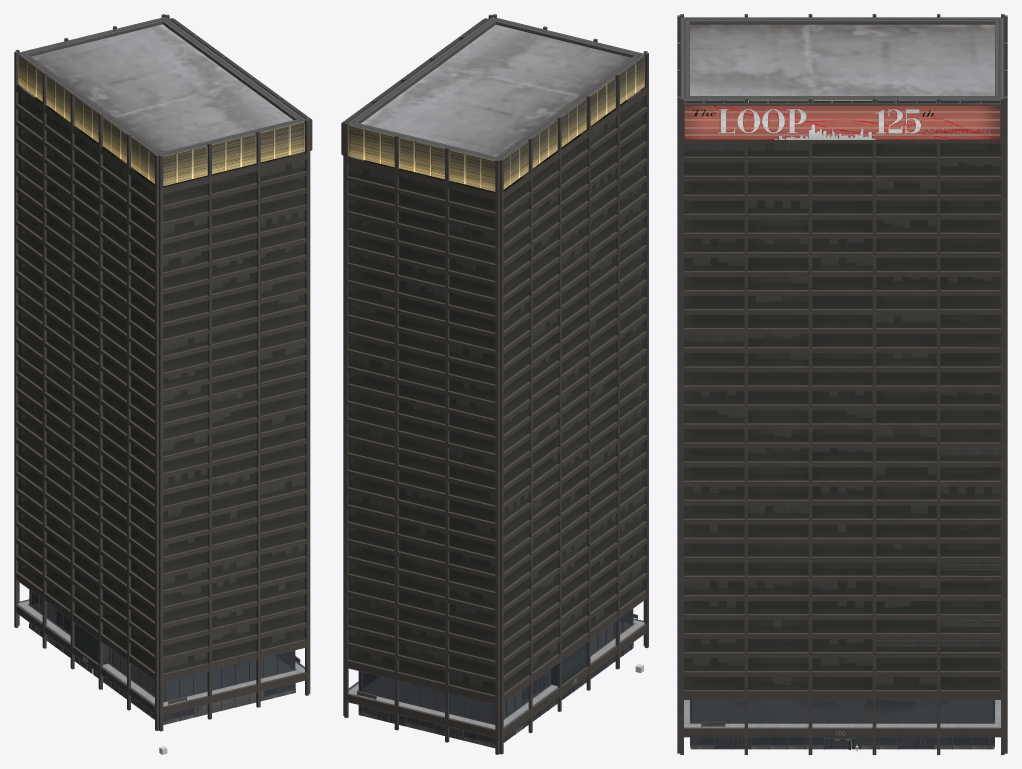
File: hengshi-hq-atlanta-exterior-web.glb
3 renders of one model, left to right at view 1: azimuth 30°, elevation 25°; view 2: azimuth 150°, elevation 25°; view 3: azimuth 270°, elevation 25°, orthographic. The views are drawn at different scales.
Visible parts, largest first — view 1: Cube.002, Cube.005, Cube.012, Cube.001, Cube.006, Cube.007, Cube.003; view 2: Cube.002, Cube.005, Cube.012, Cube.001, Cube.006, Cube.007, Cube.003; view 3: Cube.005, Cube.002, Cube.012, Cube.001, Cube.004, Cube.007, Cube.003, Cube.006.
Boxes of the visible parts, bbox=[...] form: Cube.002: bbox=[14, 14, 312, 731]; Cube.005: bbox=[18, 88, 304, 673]; Cube.012: bbox=[18, 93, 304, 672]; Cube.001: bbox=[18, 88, 304, 673]; Cube.006: bbox=[18, 54, 304, 185]; Cube.007: bbox=[29, 590, 295, 721]; Cube.003: bbox=[19, 111, 303, 667]; Cube.002: bbox=[341, 14, 648, 754]; Cube.005: bbox=[349, 91, 644, 694]; Cube.012: bbox=[349, 97, 643, 693]; Cube.001: bbox=[348, 91, 644, 695]; Cube.006: bbox=[348, 56, 644, 191]; Cube.007: bbox=[358, 609, 633, 744]; Cube.003: bbox=[350, 119, 643, 686]; Cube.005: bbox=[684, 143, 1000, 689]; Cube.002: bbox=[677, 14, 1007, 754]; Cube.012: bbox=[685, 144, 1000, 688]; Cube.001: bbox=[684, 144, 1000, 689]; Cube.004: bbox=[684, 105, 1000, 139]; Cube.007: bbox=[690, 700, 993, 748]; Cube.003: bbox=[685, 144, 999, 684]; Cube.006: bbox=[684, 100, 1000, 102].
Bounding box in the file's own units: 60.83 × 221 × 96.85.
Materials: 13 (11 with a texture image).
